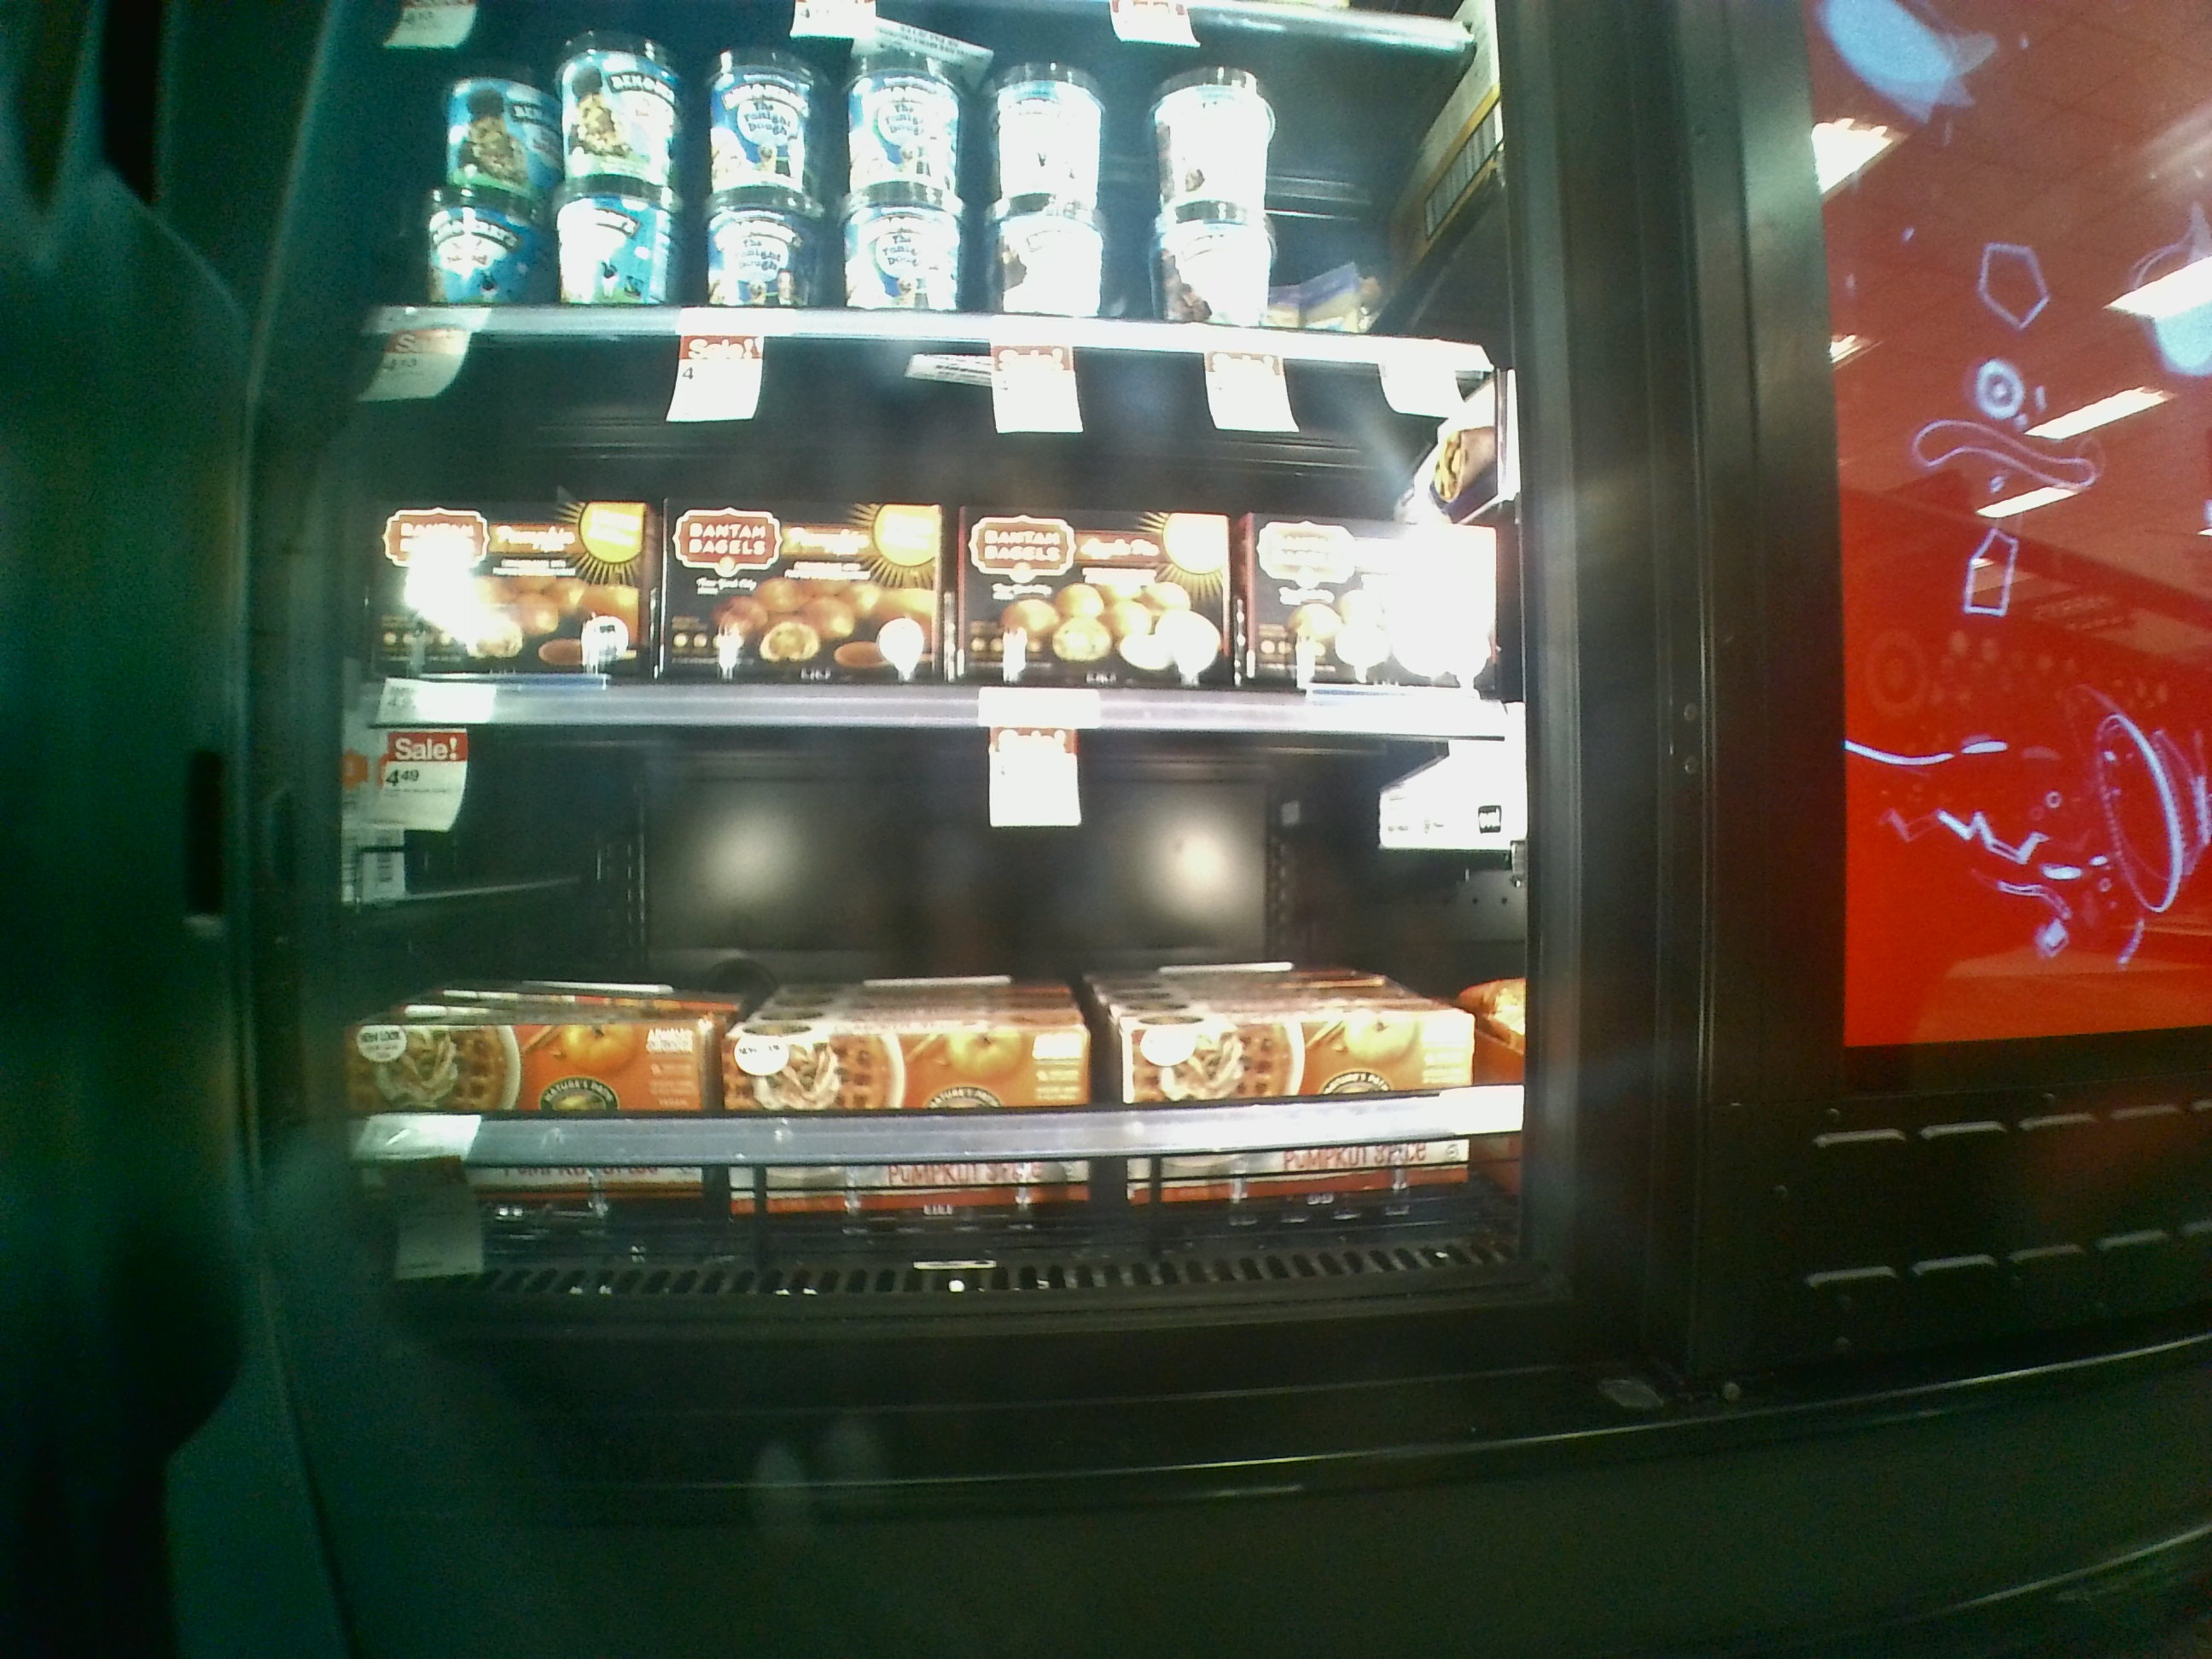shelf: (322, 704, 1566, 1321), (364, 324, 1529, 737)
